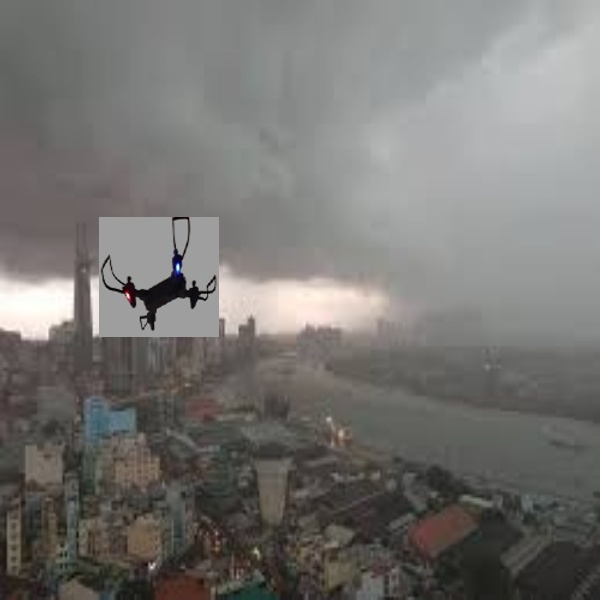drone: (94, 215, 220, 340)
